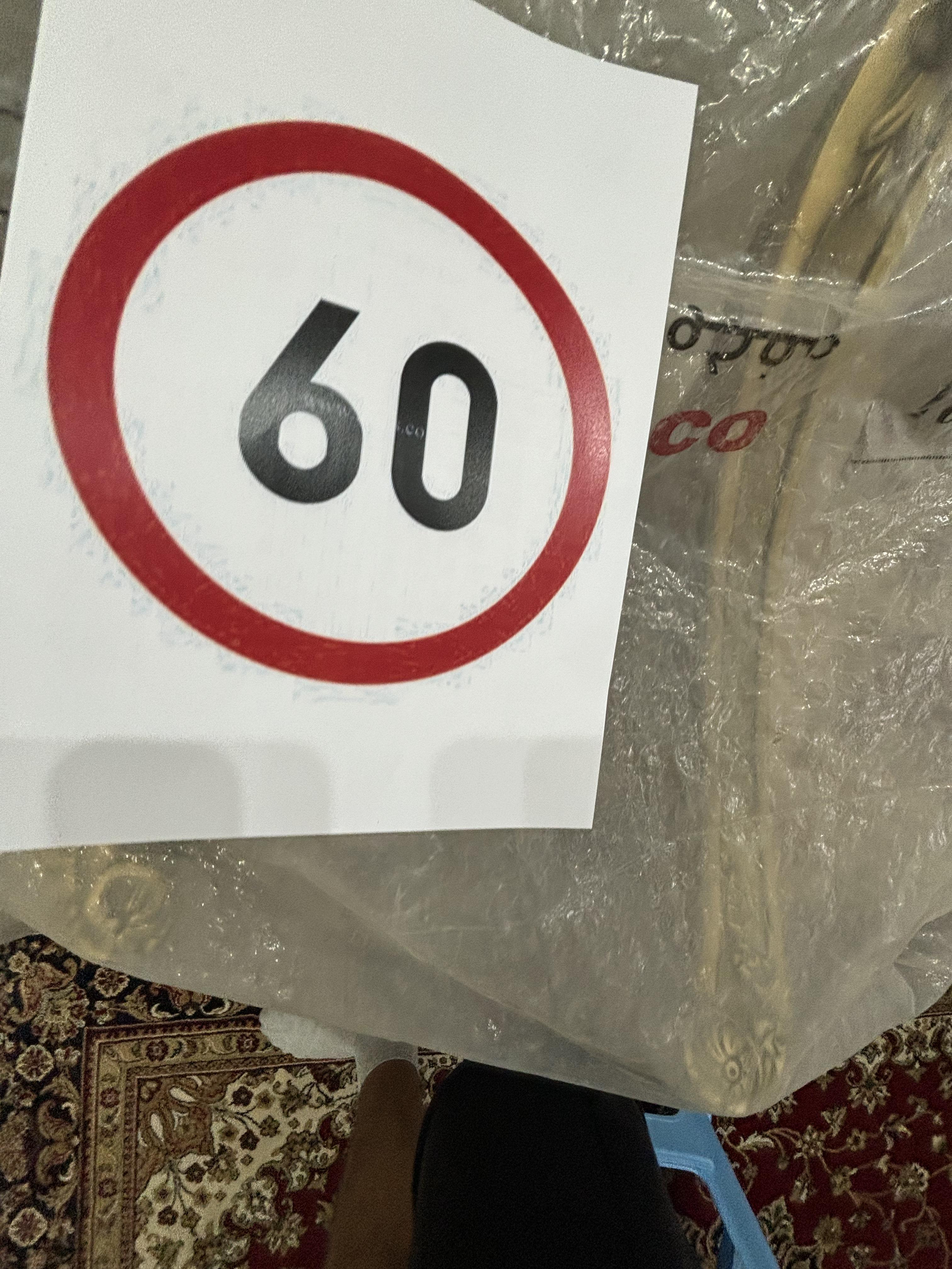60-Speed: (48, 117, 634, 694)
